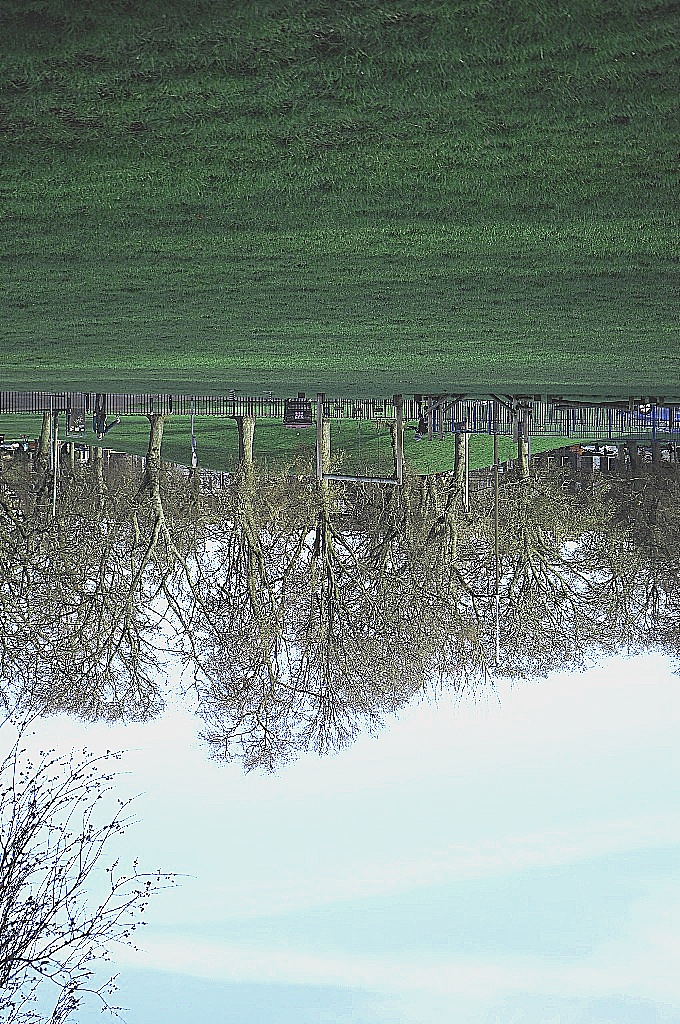Tree: (251, 406, 418, 749), (179, 402, 312, 781), (90, 402, 225, 740), (460, 394, 601, 683), (372, 407, 504, 693), (4, 410, 119, 731), (565, 432, 680, 708)
